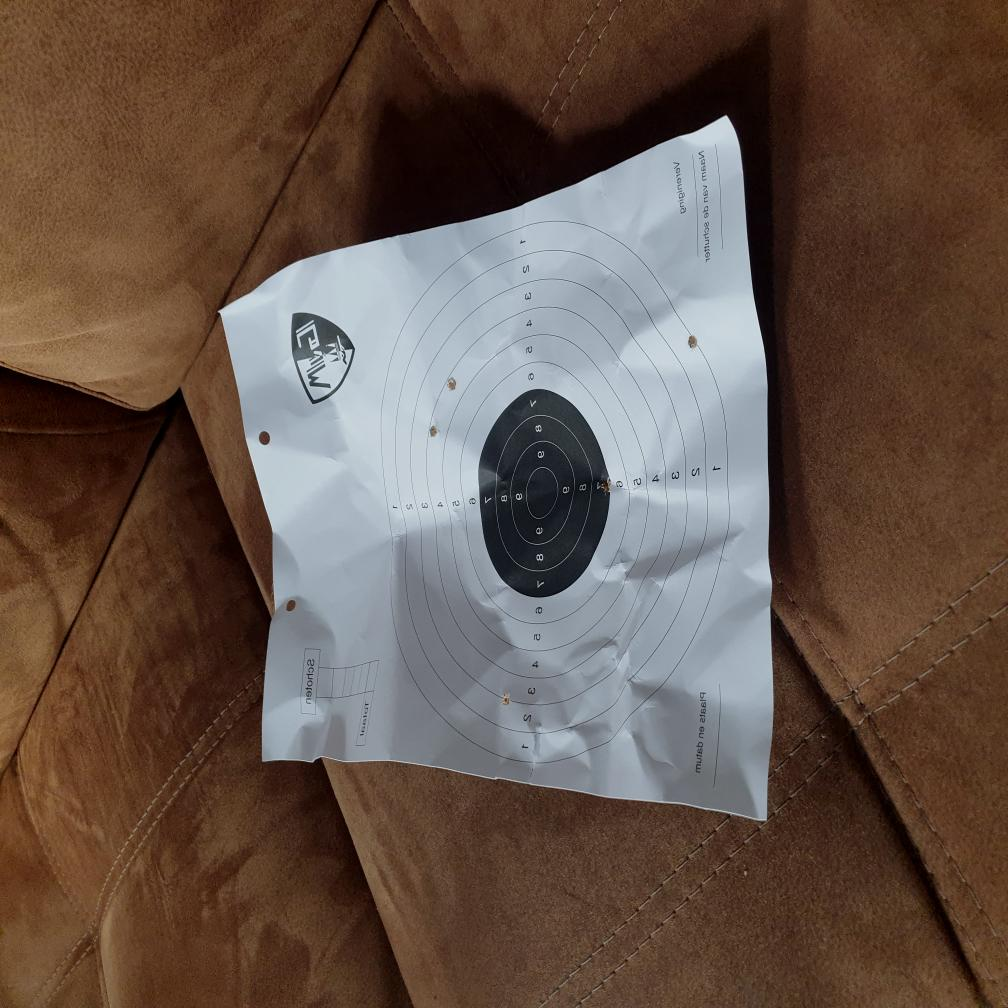1: (687, 335, 698, 351)
3: (501, 693, 510, 708)
4: (429, 422, 438, 437), (447, 376, 456, 391)
7: (600, 476, 612, 497)
Target: (379, 224, 732, 761)
black_contour: (478, 389, 608, 598)
